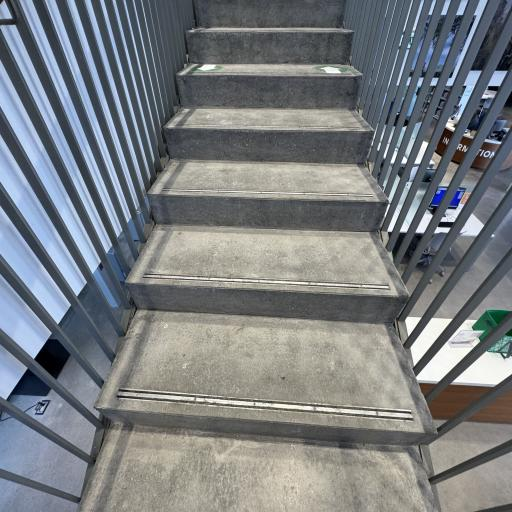Stairs: (79, 0, 437, 512), (96, 310, 436, 445), (79, 424, 437, 512), (126, 224, 408, 322), (149, 160, 388, 232), (164, 108, 373, 164), (176, 64, 362, 109), (187, 27, 352, 66), (195, 0, 345, 28)
